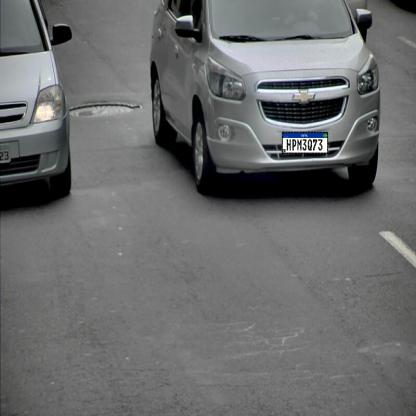PlacaM: (282, 132, 328, 154)
